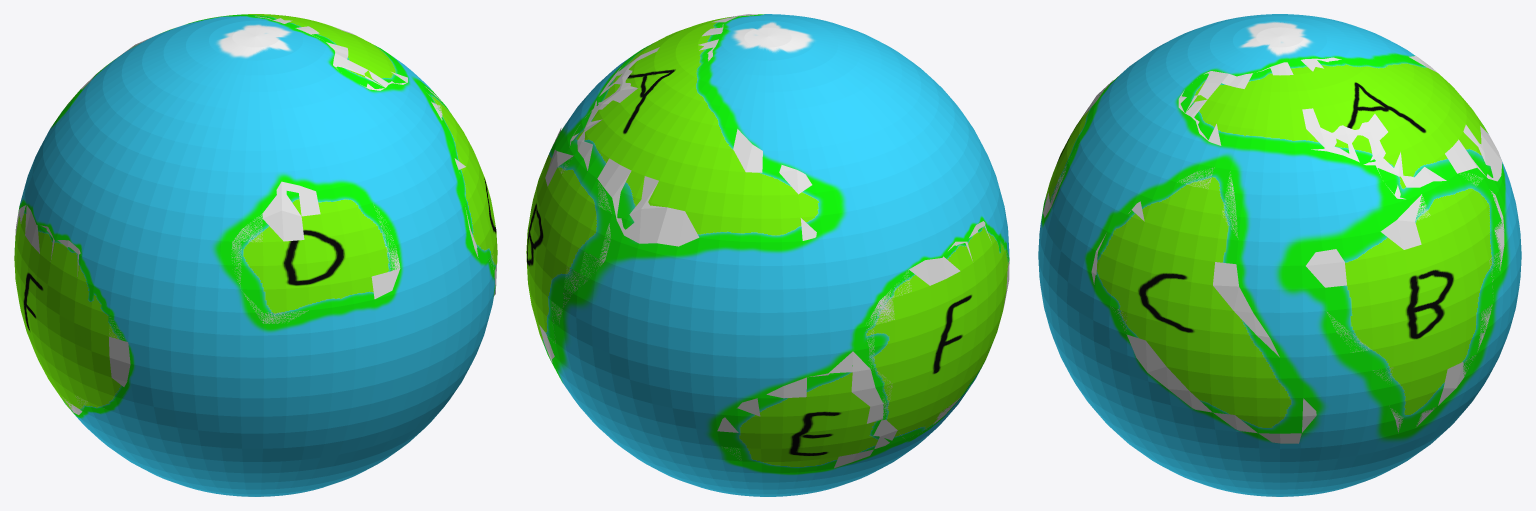
File: Planeta.fbx
3 views of the same model, side by side, from view 1: azimuth 30°, elevation 25°; view 2: azimuth 150°, elevation 25°; view 3: azimuth 270°, elevation 25° (orthographic).
Parts seen in each view (by area): view 1: Planeta, continenteD, continenteF, continenteA; view 2: Planeta, continenteA, continenteE, continenteF, continenteB; view 3: Planeta, continenteA, continenteC, continenteB.
Boxes of the visible parts, x1,y1,x2,y2 form: Planeta: (14, 14, 497, 496); continenteD: (231, 181, 400, 323); continenteF: (15, 205, 130, 414); continenteA: (81, 16, 407, 90); Planeta: (526, 14, 1009, 496); continenteA: (570, 14, 816, 246); continenteE: (717, 351, 889, 468); continenteF: (866, 221, 1009, 440); continenteB: (539, 128, 611, 362); Planeta: (1038, 14, 1521, 496); continenteA: (1178, 56, 1502, 199); continenteC: (1091, 167, 1316, 443); continenteB: (1306, 173, 1504, 432).
Size of the model in its own units: 200 by 200 by 200.
